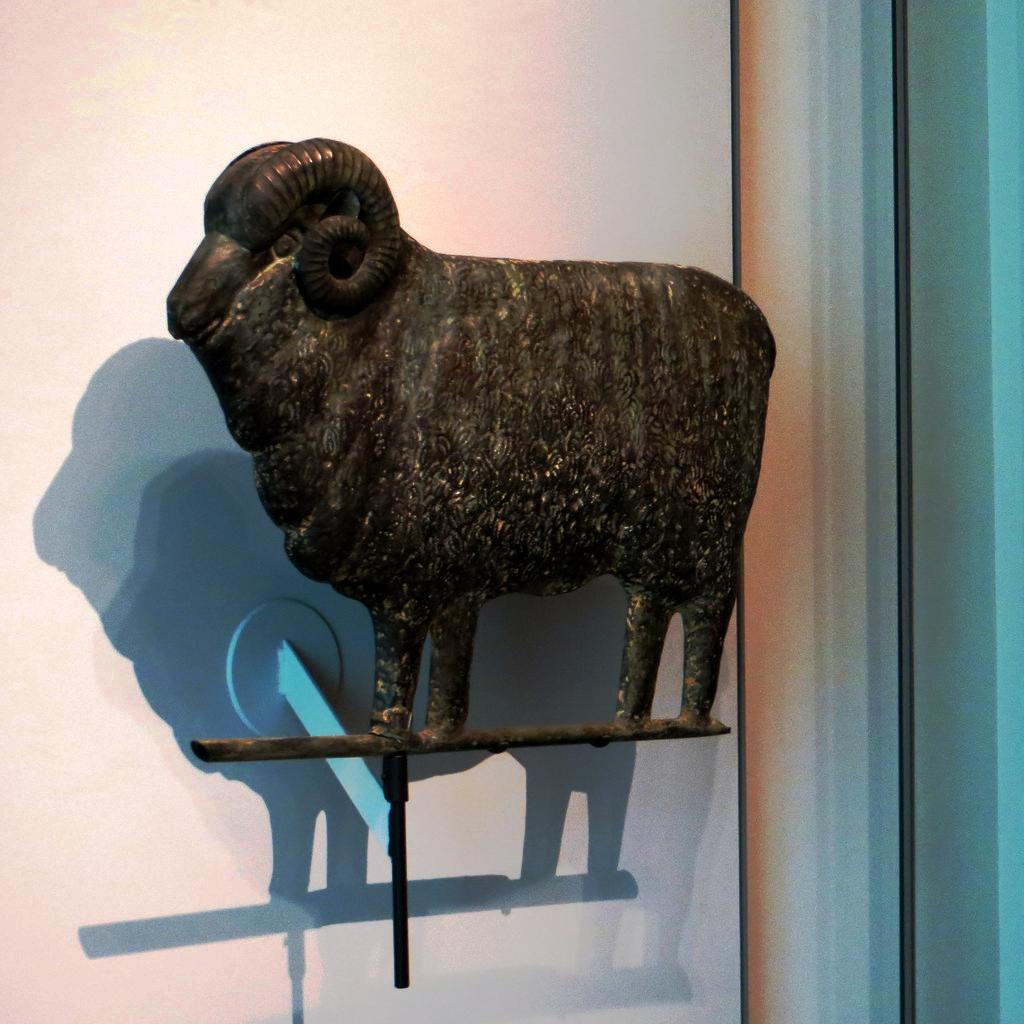Sheep: (165, 138, 781, 742)
